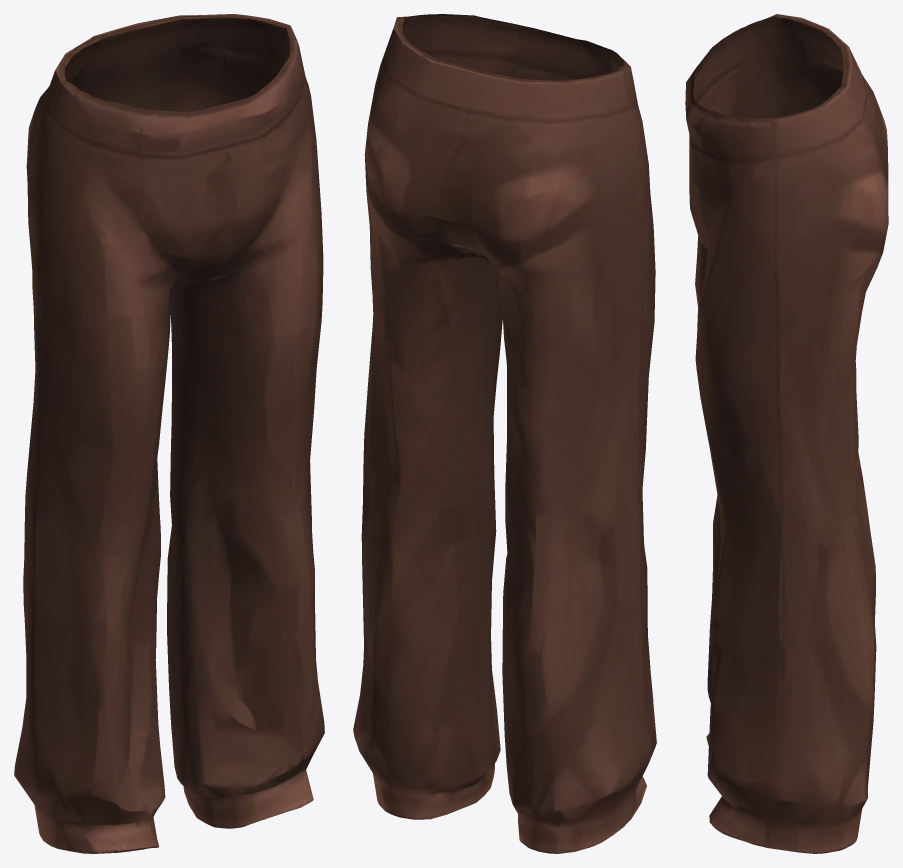
The model's file is berserk_f_trousers.glb.
The picture shows the model from 3 angles, left to right: view 1: azimuth 30°, elevation 25°; view 2: azimuth 150°, elevation 25°; view 3: azimuth 270°, elevation 25°; orthographic projection. The views are drawn at different scales.
Parts seen in each view (by area): view 1: world; view 2: world; view 3: world.
Boxes of the visible parts, <box> form: world: <box>14,14,324,853</box>; world: <box>353,14,656,853</box>; world: <box>685,14,888,853</box>.
Size of the model in its own units: 0.3488 by 0.9299 by 0.2315.
1 material, 1 textured.
